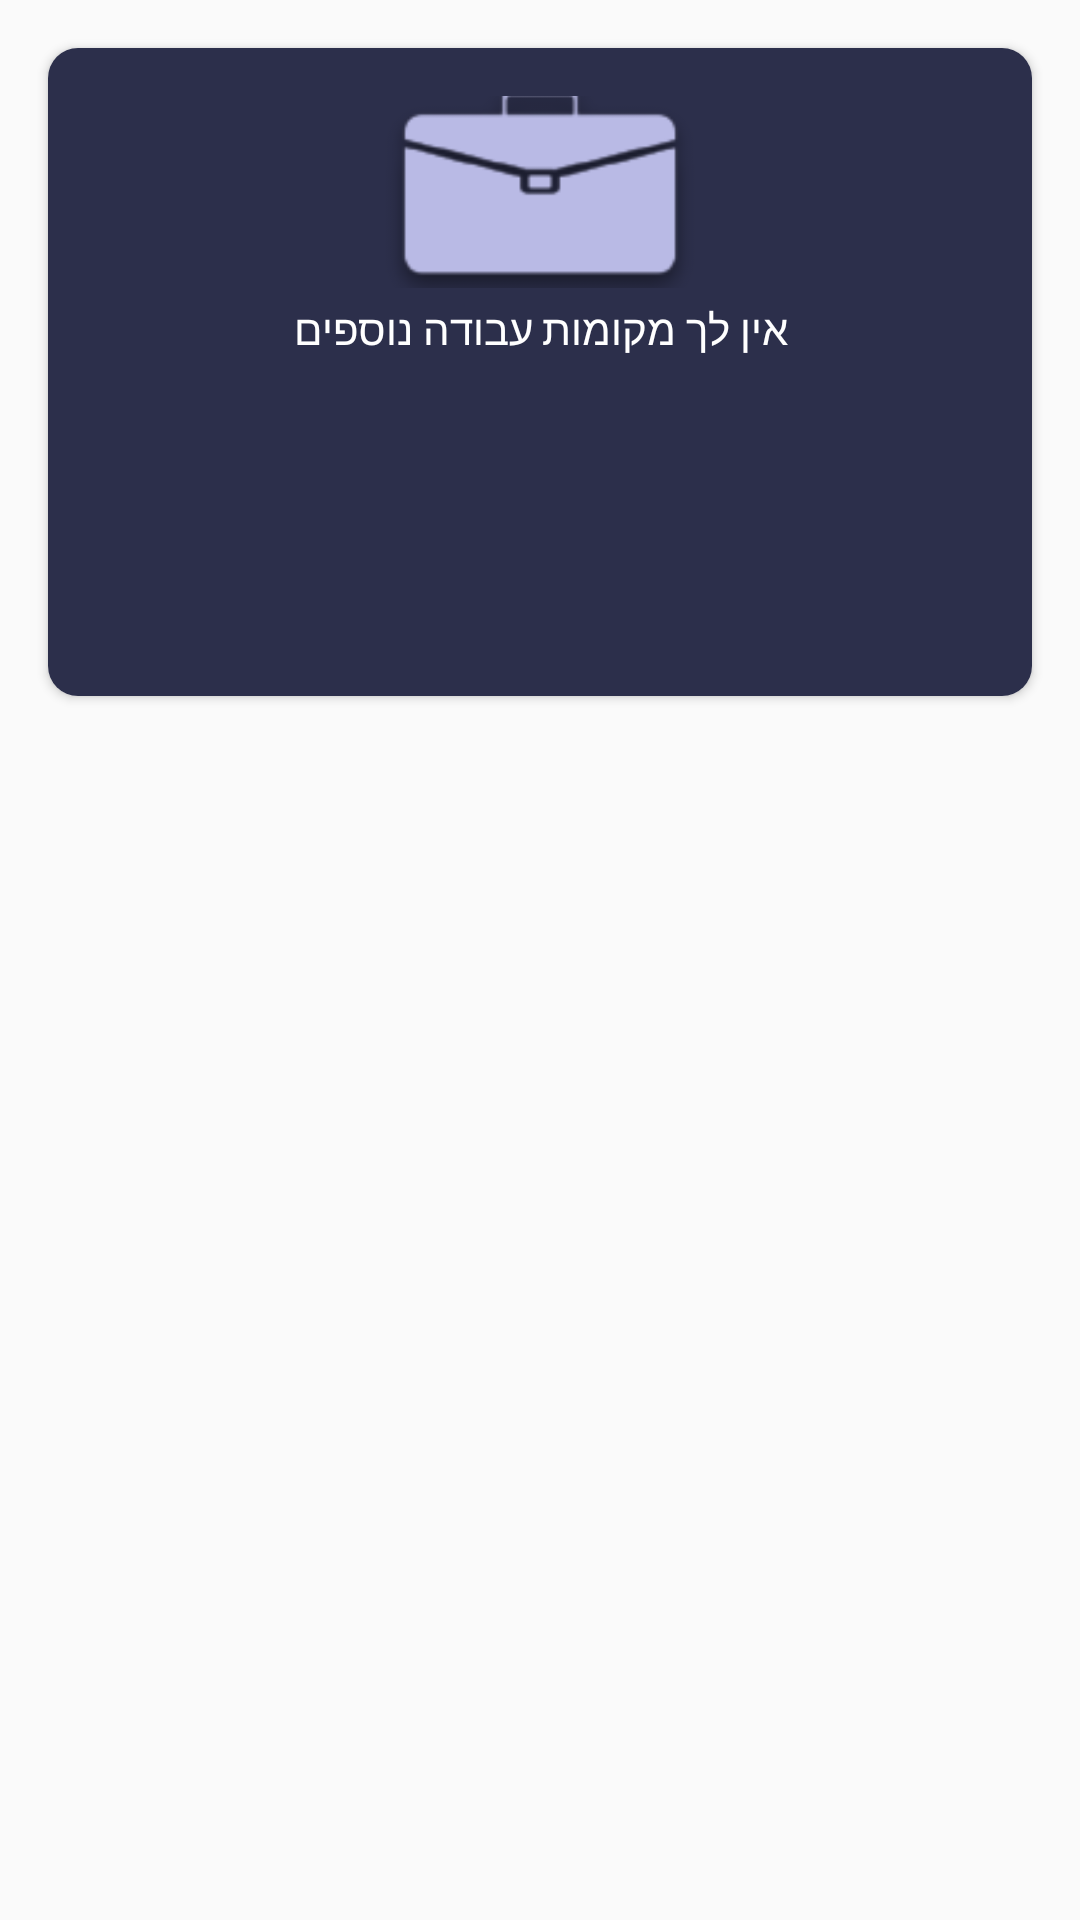

Icon bounding boxes for this 1080 × 1920 phone screenshot, format (x1, y1, x2, y2):
add workplace dialog: (404, 96, 676, 278)
